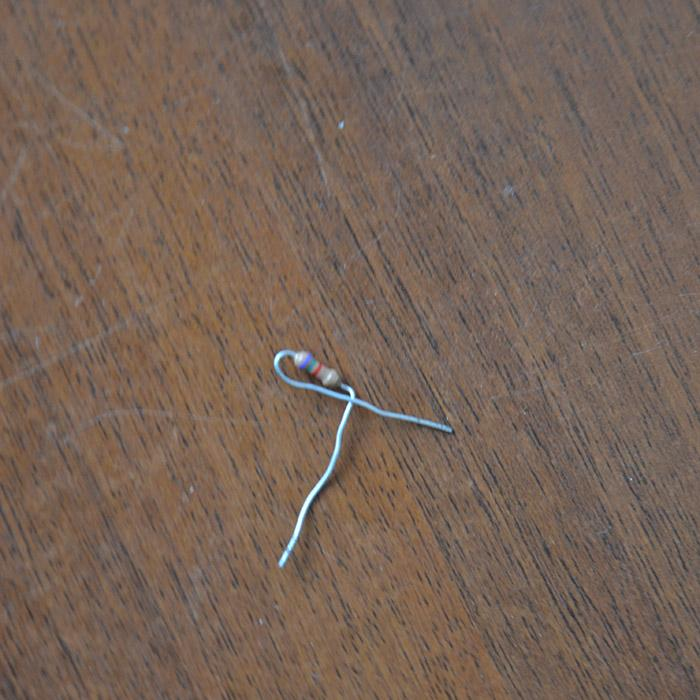resistor: (292, 349, 341, 389)
